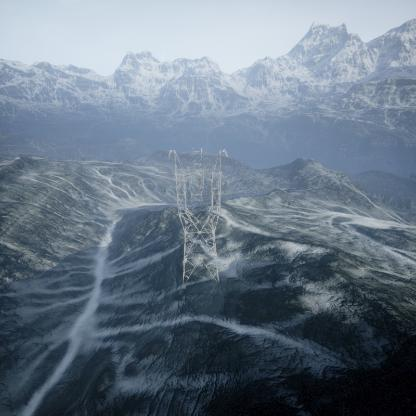tower: (166, 147, 230, 291)
